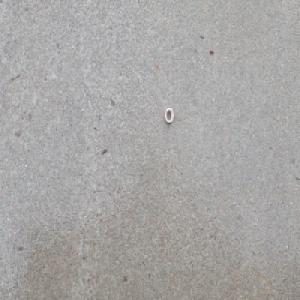Nut: (164, 107, 174, 124)
